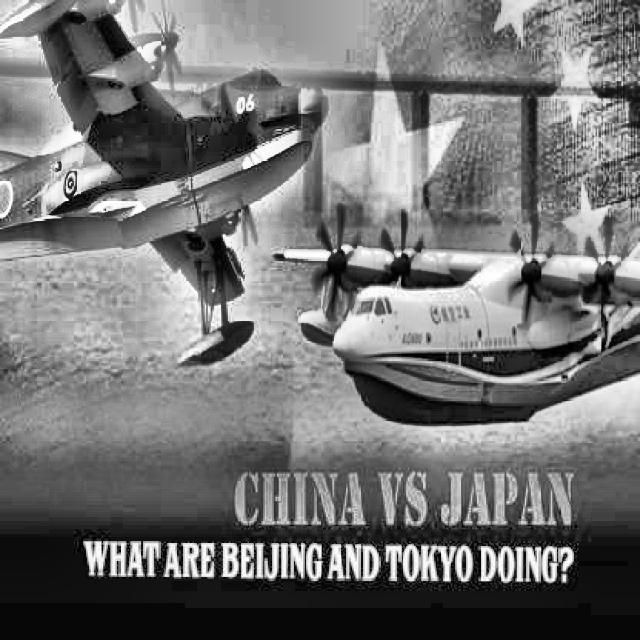AG600: (273, 202, 639, 428)
US2: (0, 1, 329, 368)
